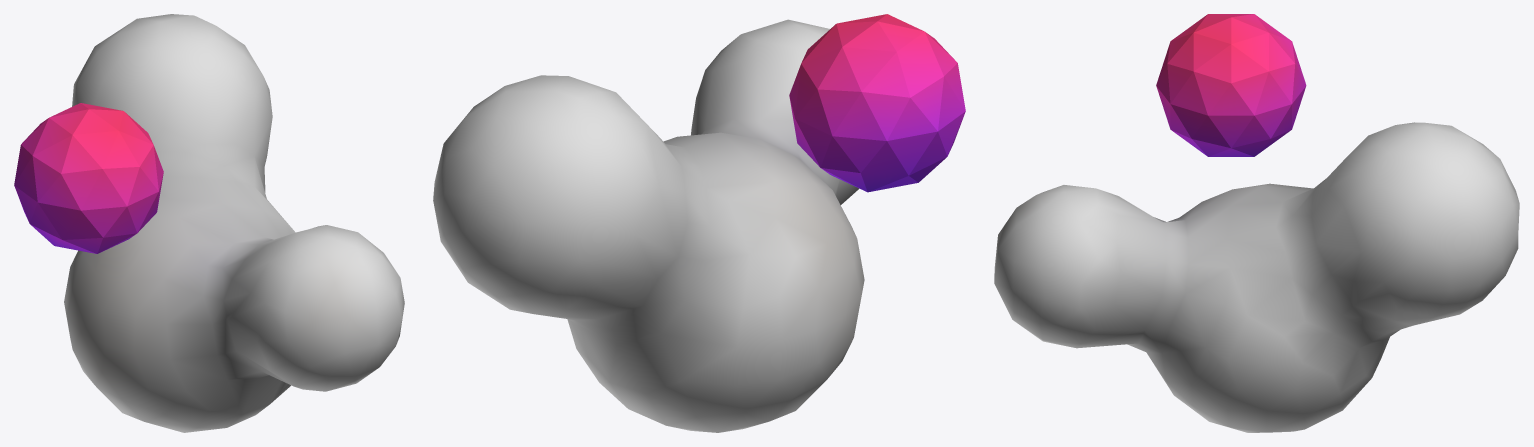
File: lightTest.glb
3 views of the same model, side by side, from view 1: azimuth 30°, elevation 25°; view 2: azimuth 150°, elevation 25°; view 3: azimuth 270°, elevation 25° (orthographic). The views are drawn at different scales.
Visible parts, largest first — view 1: Mball.003, Mball.001; view 2: Mball.003, Mball.001; view 3: Mball.003, Mball.001.
Part boxes in pixels (box(x1,y1,x2,y2)): Mball.003: box(64, 14, 404, 432); Mball.001: box(14, 103, 163, 253); Mball.003: box(433, 19, 864, 432); Mball.001: box(789, 14, 965, 192); Mball.003: box(994, 122, 1519, 432); Mball.001: box(1156, 14, 1306, 156).
Size of the model in its own units: 4.49 by 4.61 by 6.3.
